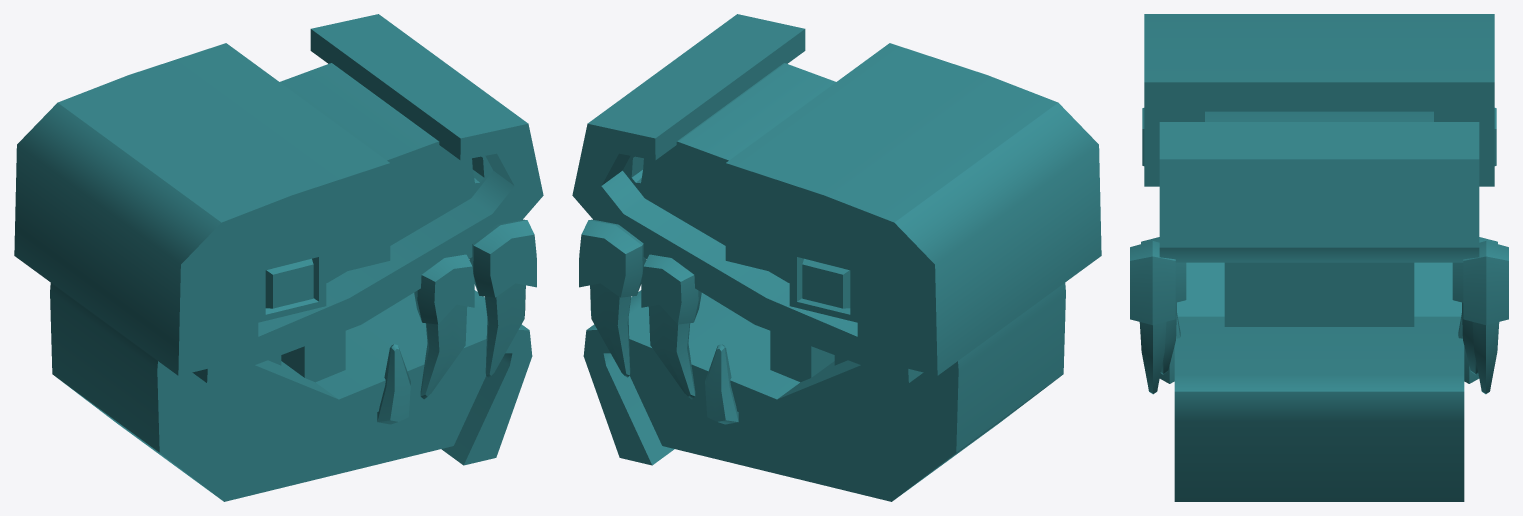
The model's file is statueHead.fbx.
3 renders of one model, left to right at view 1: azimuth 30°, elevation 25°; view 2: azimuth 150°, elevation 25°; view 3: azimuth 270°, elevation 25°, orthographic. The views are drawn at different scales.
Parts seen in each view (by area): view 1: statueHead_geo; view 2: statueHead_geo; view 3: statueHead_geo.
Boxes of the visible parts, bbox=[...] form: statueHead_geo: bbox=[14, 14, 543, 501]; statueHead_geo: bbox=[572, 14, 1101, 501]; statueHead_geo: bbox=[1130, 14, 1508, 501].
Bounding box in the file's own units: 75.88 × 65.24 × 62.61.
Materials: 1 (1 with a texture image).
